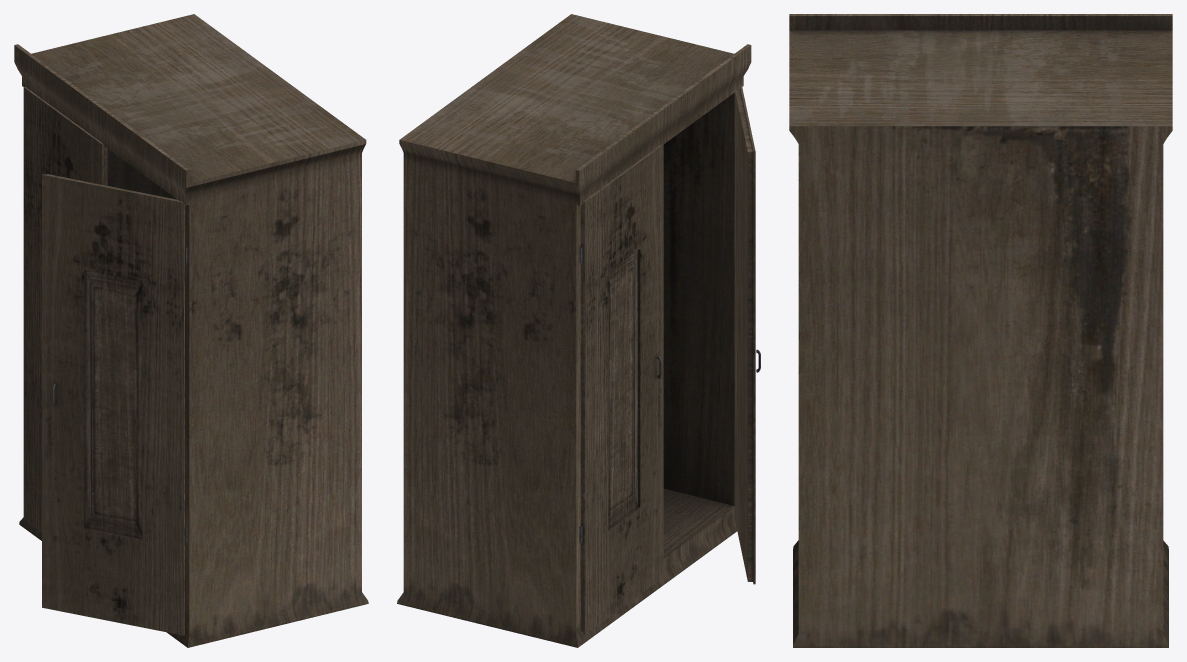
Rendered from Prefab_Cupboard.fbx.
3 renders of one model, left to right at view 1: azimuth 30°, elevation 25°; view 2: azimuth 150°, elevation 25°; view 3: azimuth 270°, elevation 25°, orthographic. The views are drawn at different scales.
Visible parts, largest first — view 1: Cube_017; view 2: Cube_017; view 3: Cube_017.
Boxes of the visible parts, x1,y1,x2,y2 form: Cube_017: [14, 14, 368, 647]; Cube_017: [397, 14, 760, 647]; Cube_017: [789, 14, 1172, 647].
Bounding box in the file's own units: 8.04 × 14.26 × 9.27.
